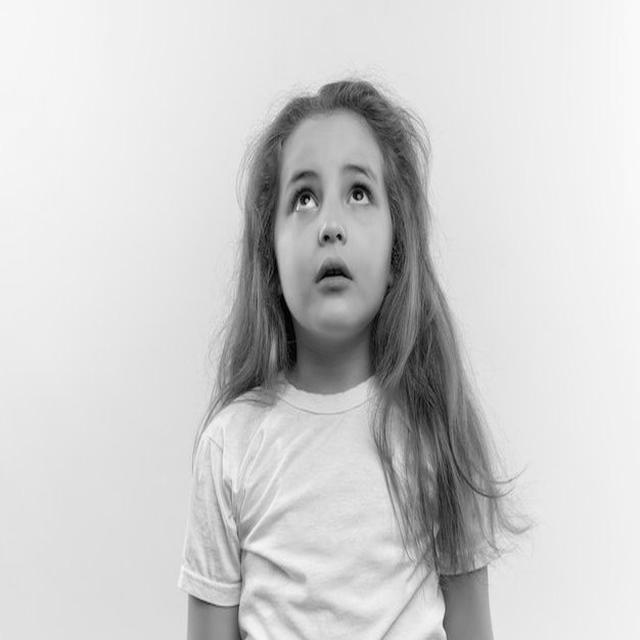Fear: (276, 113, 394, 338)
